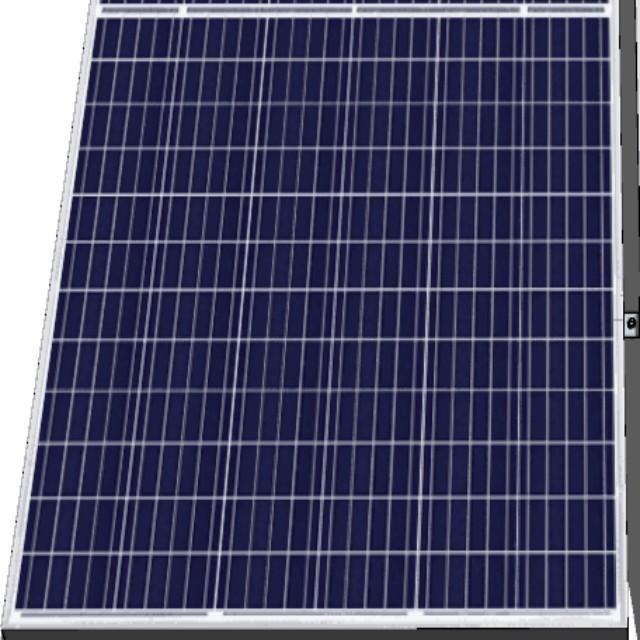Normal Solar Panel: (7, 9, 615, 615)
